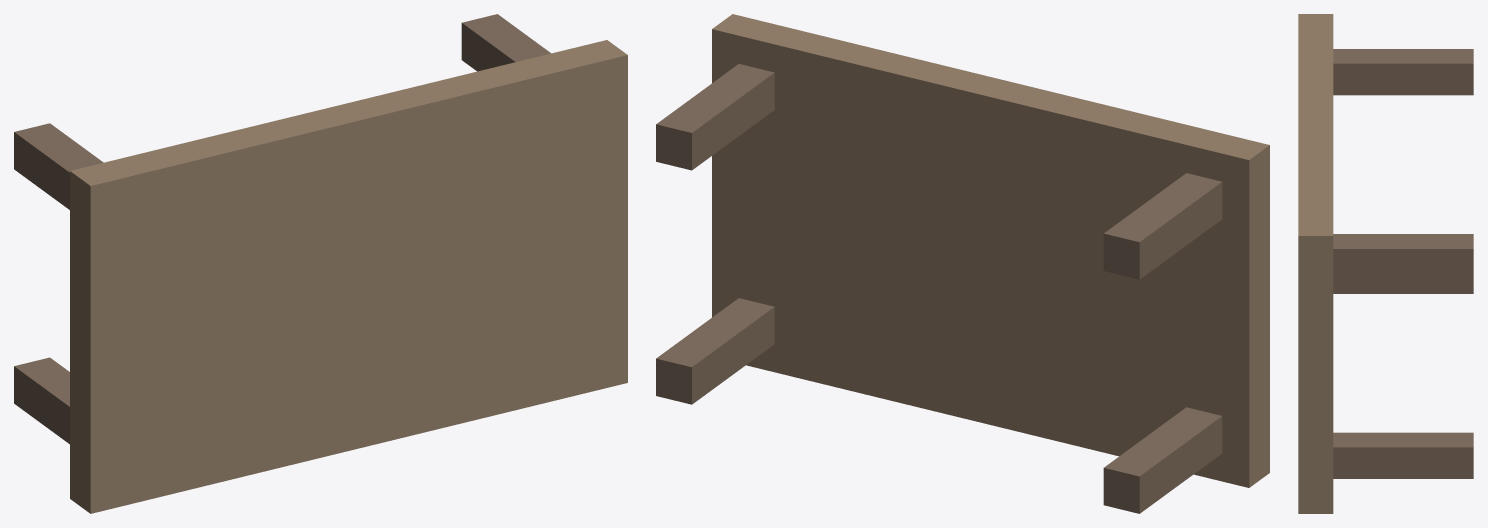
File: low_table.glb
The picture shows the model from 3 angles, left to right: view 1: azimuth 30°, elevation 25°; view 2: azimuth 150°, elevation 25°; view 3: azimuth 270°, elevation 25°; orthographic projection. The views are drawn at different scales.
Parts seen in each view (by area): view 1: world; view 2: world; view 3: world.
Boxes of the visible parts, x1=… form: world: x1=14, y1=14, x2=627, y2=513; world: x1=656, y1=14, x2=1269, y2=513; world: x1=1298, y1=14, x2=1473, y2=513.
Bounding box in the file's own units: 1.2 × 0.7 × 0.4.
